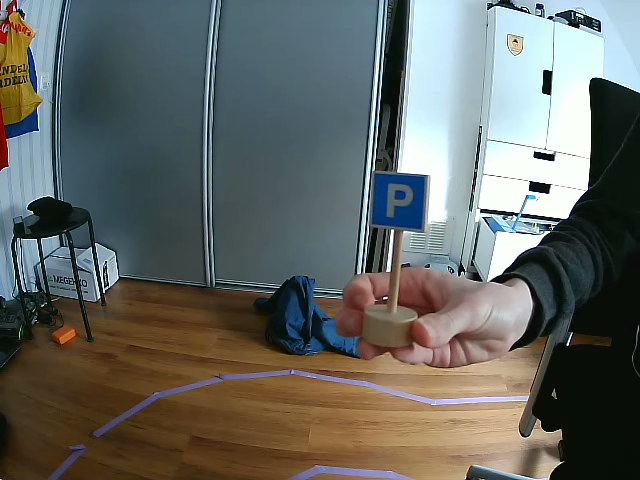parkeerbord: (372, 173, 429, 227)
